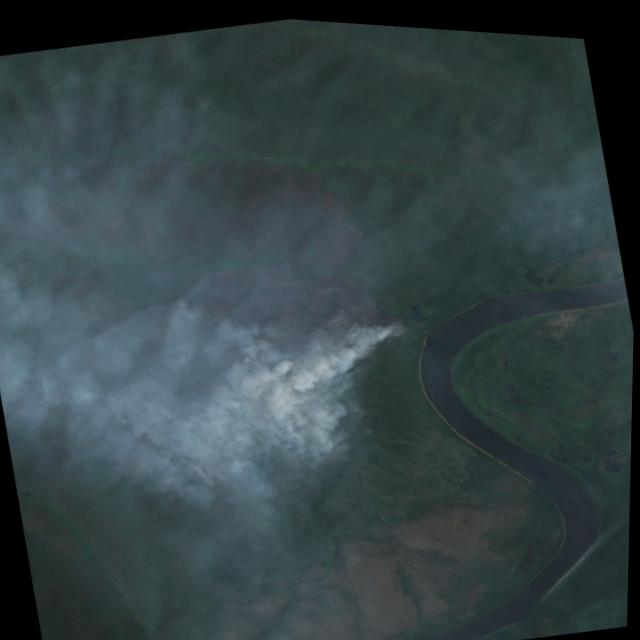fire: (254, 301, 423, 390), (166, 286, 202, 319)
